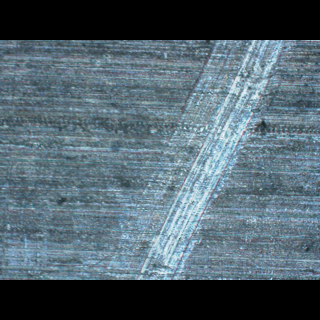d: (181, 40, 296, 191), (104, 165, 219, 279)
